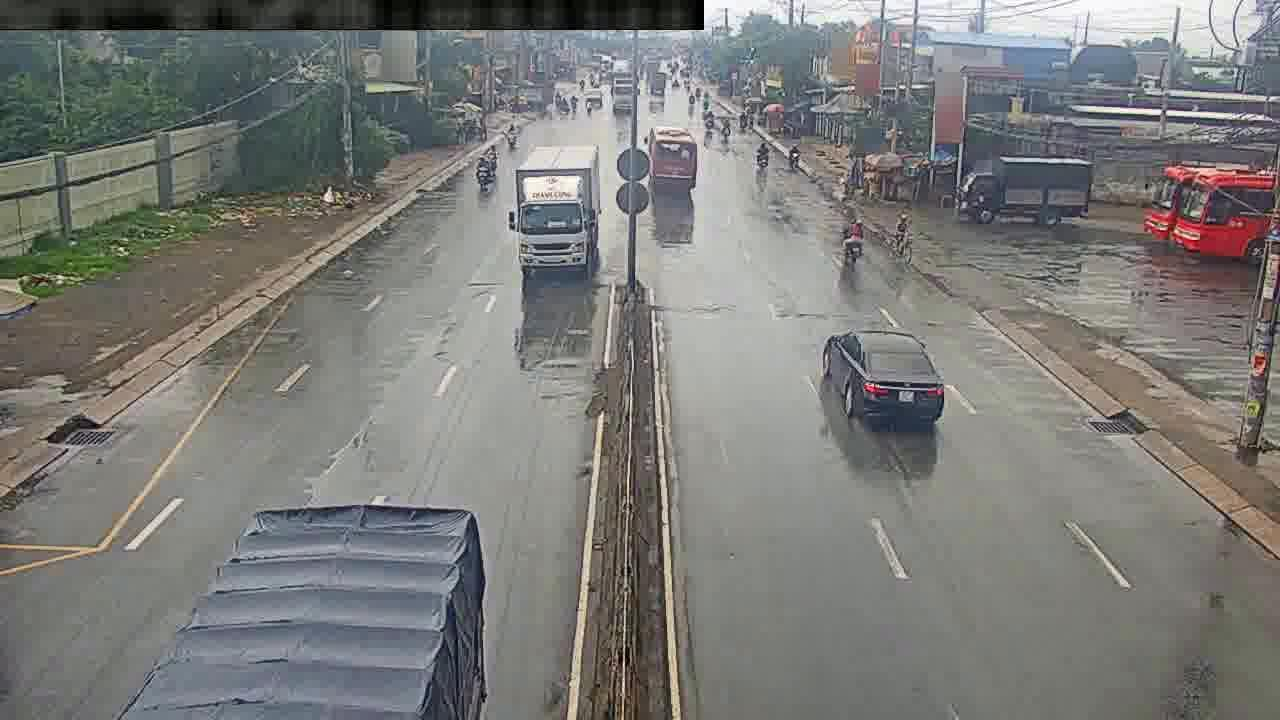8: (112, 502, 487, 720), (511, 145, 600, 272)
container: (824, 326, 947, 425)
motorbike: (842, 206, 864, 263), (893, 207, 913, 260), (473, 148, 492, 193), (758, 134, 773, 175), (786, 142, 800, 172)
